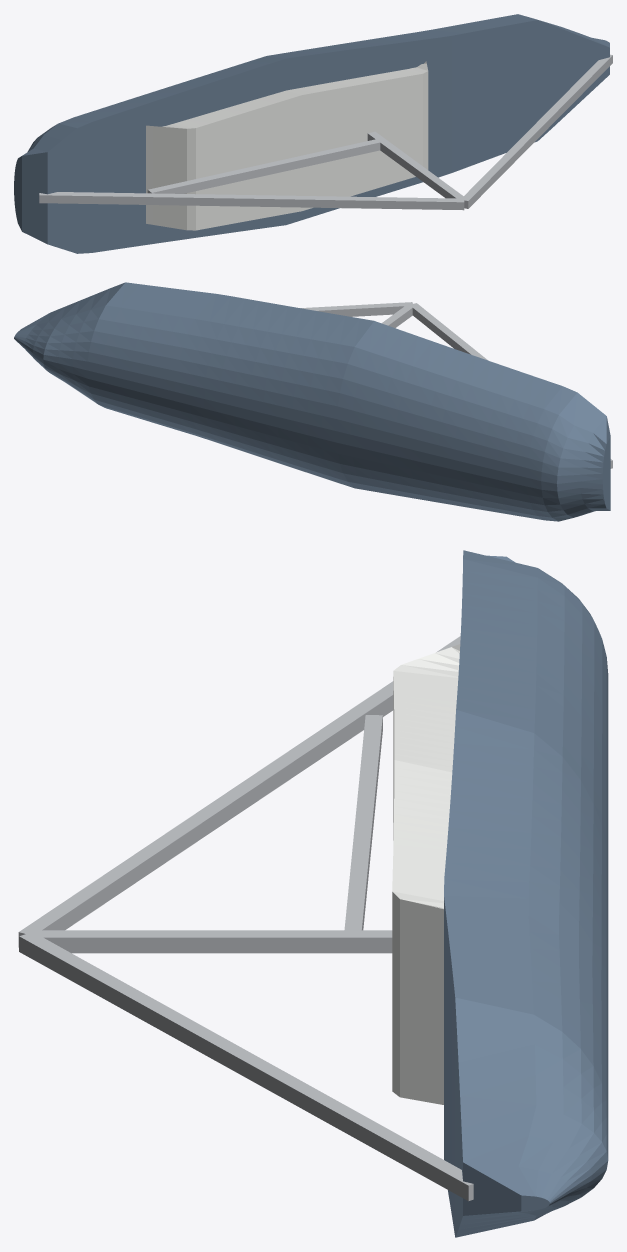
The model's file is sail-small-loft-highside.glb.
3 views of the same model, one above another, from view 1: azimuth 30°, elevation 25°; view 2: azimuth 150°, elevation 25°; view 3: azimuth 270°, elevation 25° (orthographic). The views are drawn at different scales.
Visible parts, largest first — view 1: sail-small-loft-highside; view 2: sail-small-loft-highside; view 3: sail-small-loft-highside.
Part boxes in pixels (x1,y1,x2,y2): sail-small-loft-highside: (14,14,612,253); sail-small-loft-highside: (14,282,612,521); sail-small-loft-highside: (18,550,608,1237).
Size of the model in its own units: 1.88 by 0.5058 by 0.8193.
